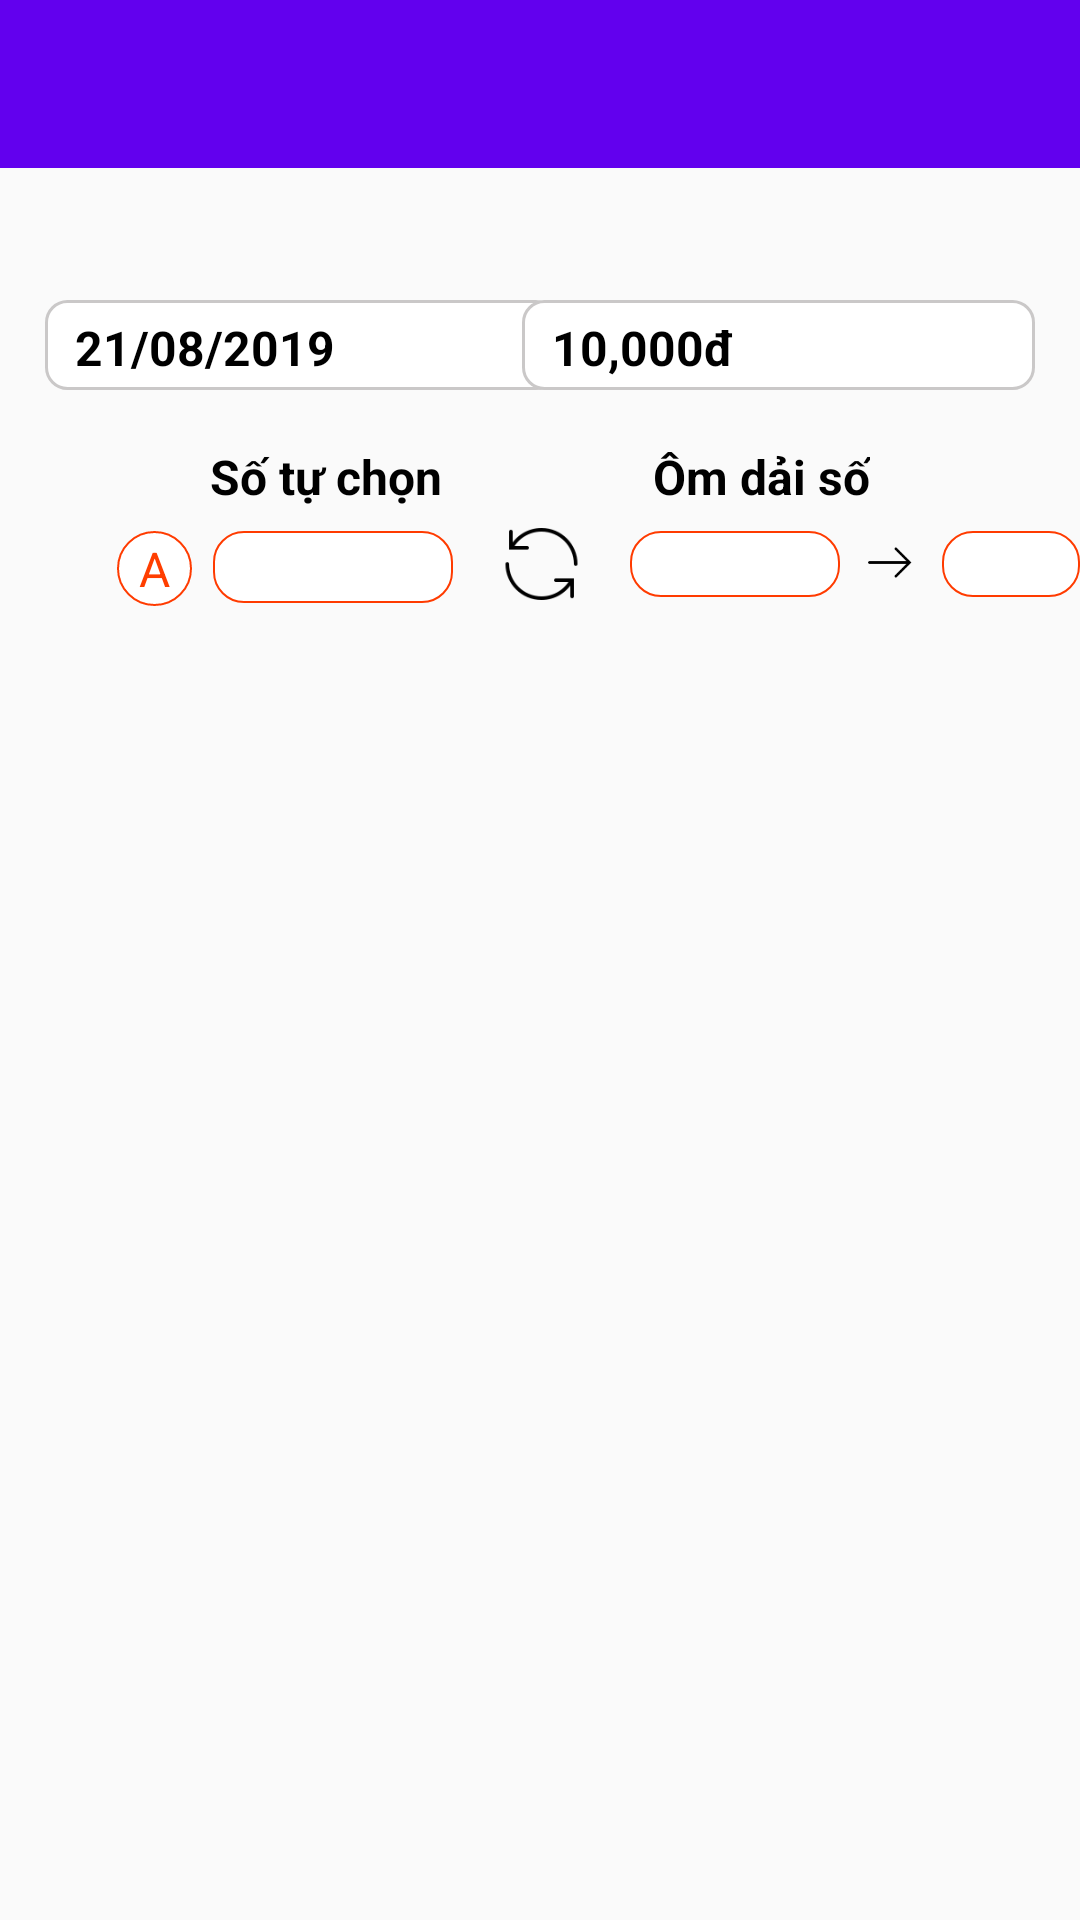

Screen size 1080px x 1920px. Icon name, then its box in pixels as (x1, y1, x2, y2):
ramdom: (505, 528, 578, 600)
right: (868, 547, 912, 578)
